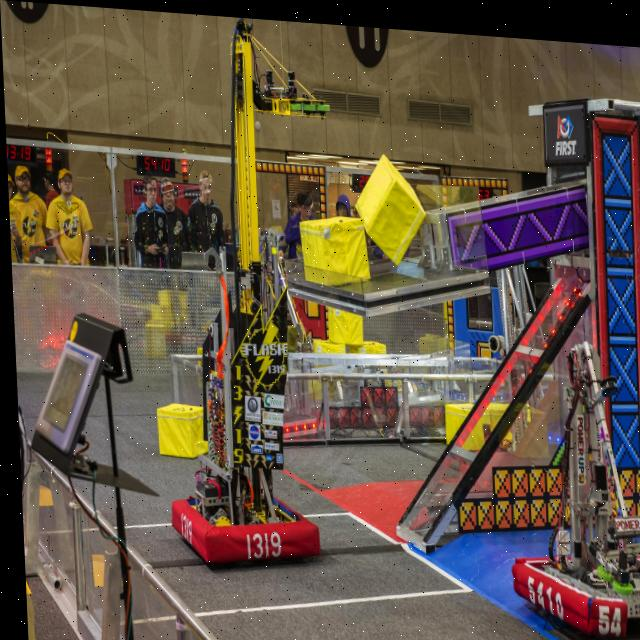robot: (147, 12, 317, 574), (487, 325, 640, 636)
